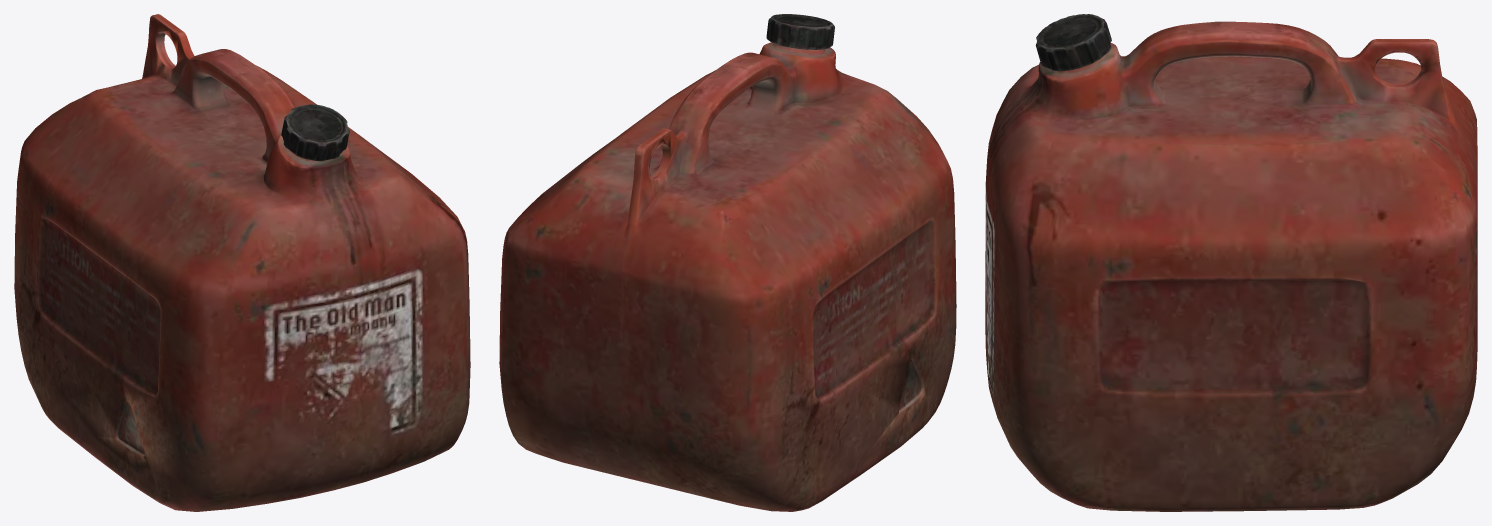
Rendered from plastic_jerrycan.glb.
3 renders of one model, left to right at view 1: azimuth 30°, elevation 25°; view 2: azimuth 150°, elevation 25°; view 3: azimuth 270°, elevation 25°, orthographic. The views are drawn at different scales.
Parts seen in each view (by area): view 1: plastic_jerrycan; view 2: plastic_jerrycan; view 3: plastic_jerrycan.
Part boxes in pixels (left/top/right/bottom): plastic_jerrycan: left=14, top=14, right=470, bottom=511; plastic_jerrycan: left=499, top=14, right=956, bottom=511; plastic_jerrycan: left=985, top=14, right=1477, bottom=511.
Bounding box in the file's own units: 0.268 × 0.3184 × 0.3408.
Materials: 1 (1 with a texture image).
